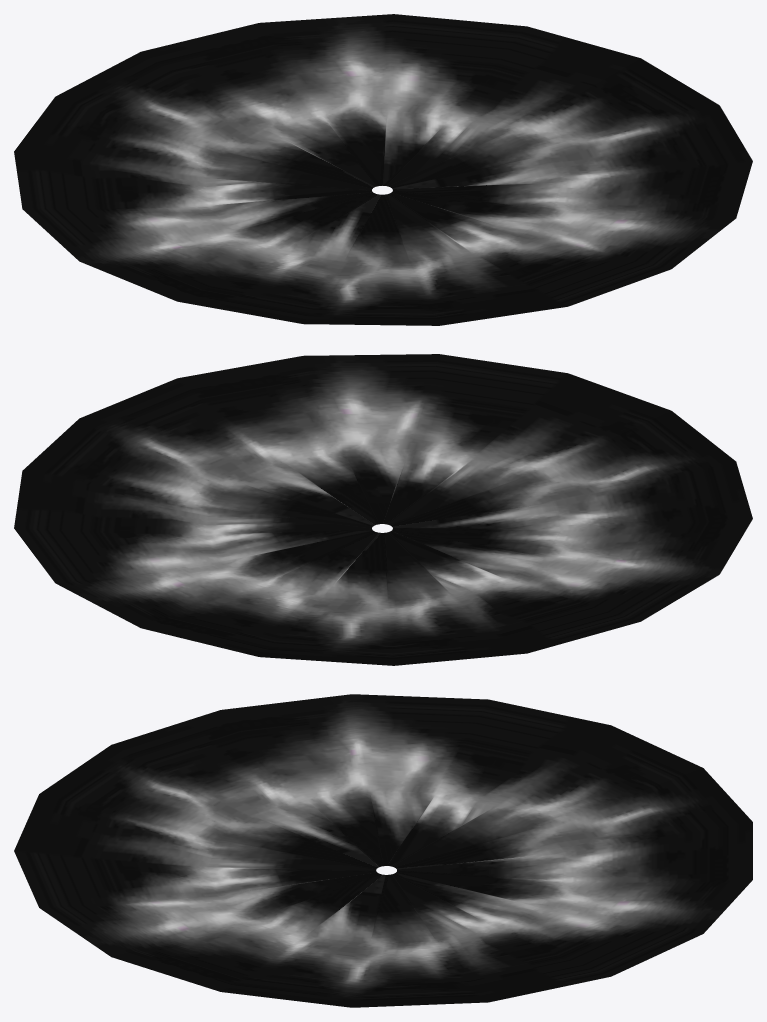
Rendered from 0041_Mikal@Spell2_e_s.fbx.
The picture shows the model from 3 angles, top to bottom: view 1: azimuth 30°, elevation 25°; view 2: azimuth 150°, elevation 25°; view 3: azimuth 270°, elevation 25°; orthographic projection.
Visible parts, largest first — view 1: mesh_yellow; view 2: mesh_yellow; view 3: mesh_yellow.
Boxes of the visible parts, <box> form: mesh_yellow: <box>14,14,752,325</box>; mesh_yellow: <box>14,354,752,665</box>; mesh_yellow: <box>14,694,752,1007</box>.
Bounding box in the file's own units: 6.26 × 0.1812 × 6.23.
1 material, 1 textured.
